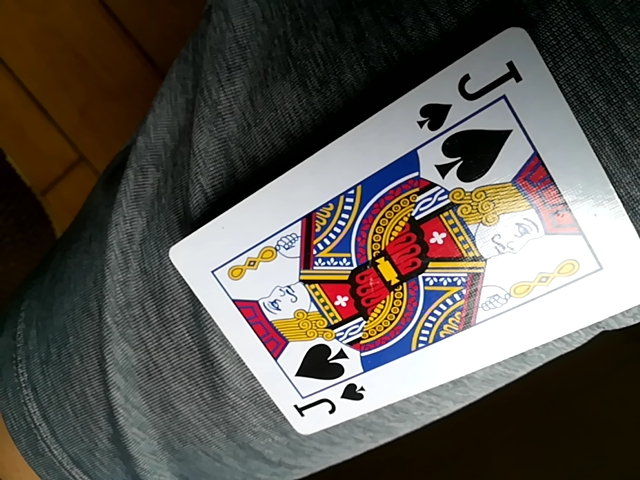ht j: (164, 30, 640, 433)
